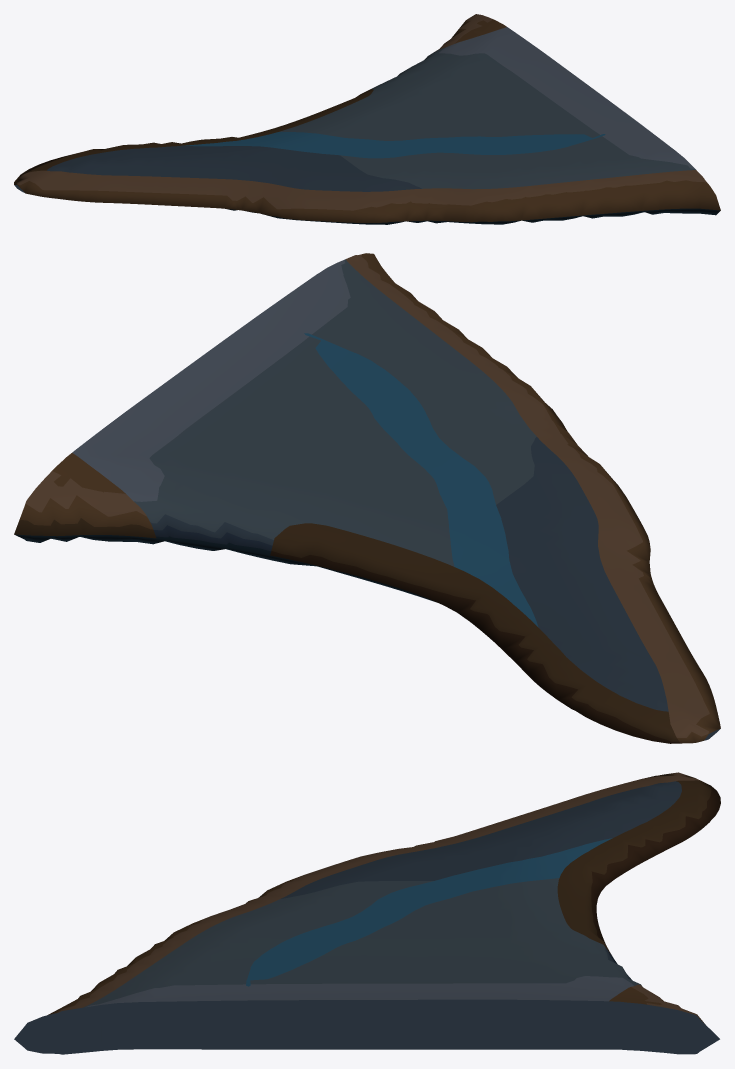
File: coral_manta_wing_left.glb
The picture shows the model from 3 angles, top to bottom: view 1: azimuth 30°, elevation 25°; view 2: azimuth 150°, elevation 25°; view 3: azimuth 270°, elevation 25°; orthographic projection. The views are drawn at different scales.
Visible parts, largest first — view 1: coral_manta_wing_left; view 2: coral_manta_wing_left; view 3: coral_manta_wing_left.
Boxes of the visible parts, x1,y1,x2,y2 form: coral_manta_wing_left: [14, 14, 720, 224]; coral_manta_wing_left: [14, 253, 720, 743]; coral_manta_wing_left: [14, 772, 720, 1054].
Size of the model in its own units: 24 by 3.39 by 22.7.
